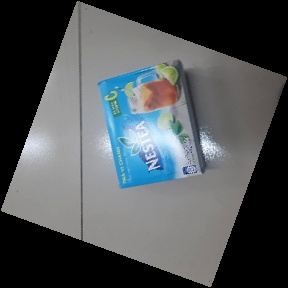Nestea: (95, 60, 205, 190)
